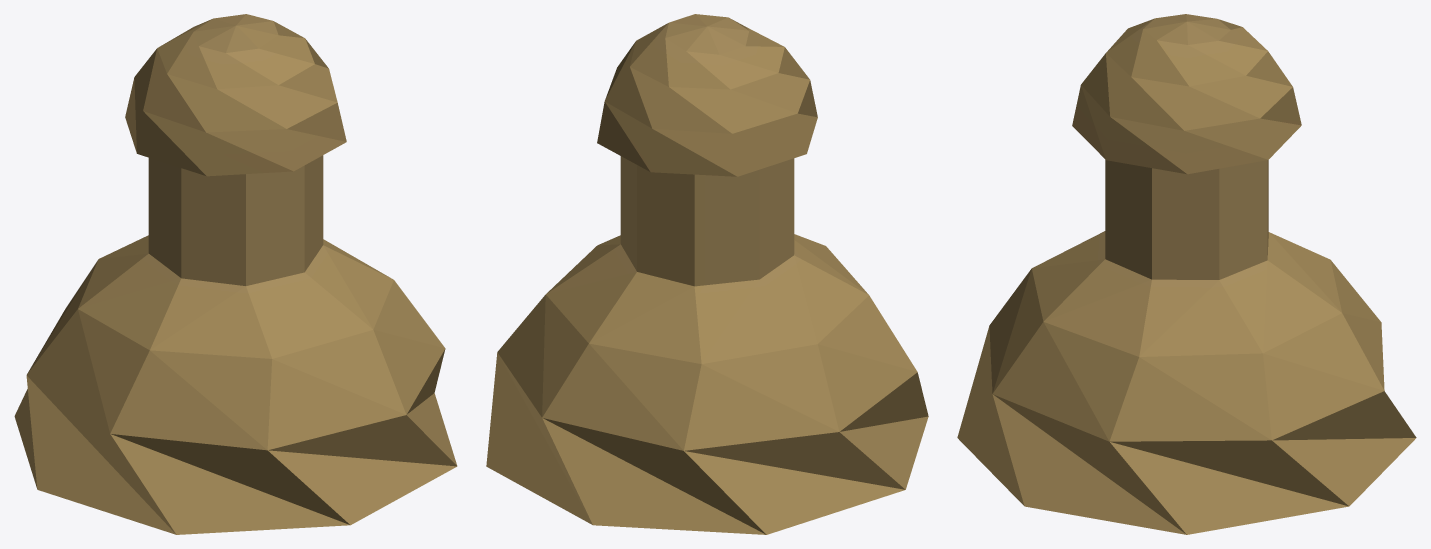
The model's file is Dome-1.obj.
3 renders of one model, left to right at view 1: azimuth 30°, elevation 25°; view 2: azimuth 150°, elevation 25°; view 3: azimuth 270°, elevation 25°, orthographic.
Parts seen in each view (by area): view 1: group1 pSphere1, pSphere2 group1; view 2: group1 pSphere1, pSphere2 group1; view 3: group1 pSphere1, pSphere2 group1.
Boxes of the visible parts, box(x1,y1,x2,y2) form: group1 pSphere1: box(14, 155, 457, 534); pSphere2 group1: box(125, 14, 346, 176); group1 pSphere1: box(486, 156, 928, 534); pSphere2 group1: box(597, 14, 817, 176); group1 pSphere1: box(957, 160, 1416, 534); pSphere2 group1: box(1072, 14, 1301, 174).
Bounding box in the file's own units: 8 × 8 × 8.
Materials: 1 (1 with a texture image).
